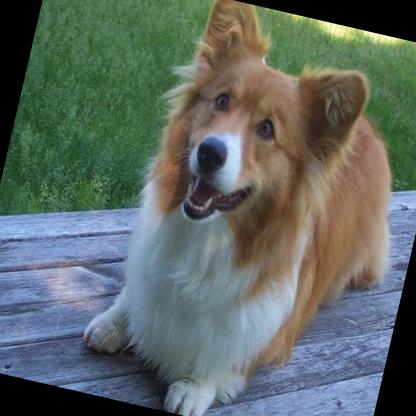Pembroke: (66, 0, 416, 416)
